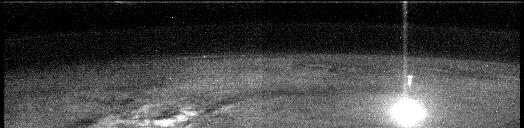positive: (405, 72, 416, 91)
